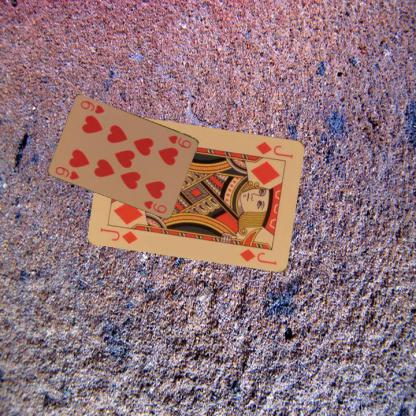9h: (52, 163, 81, 181), (166, 132, 193, 150)
Jd: (254, 138, 294, 160), (98, 225, 139, 245)
